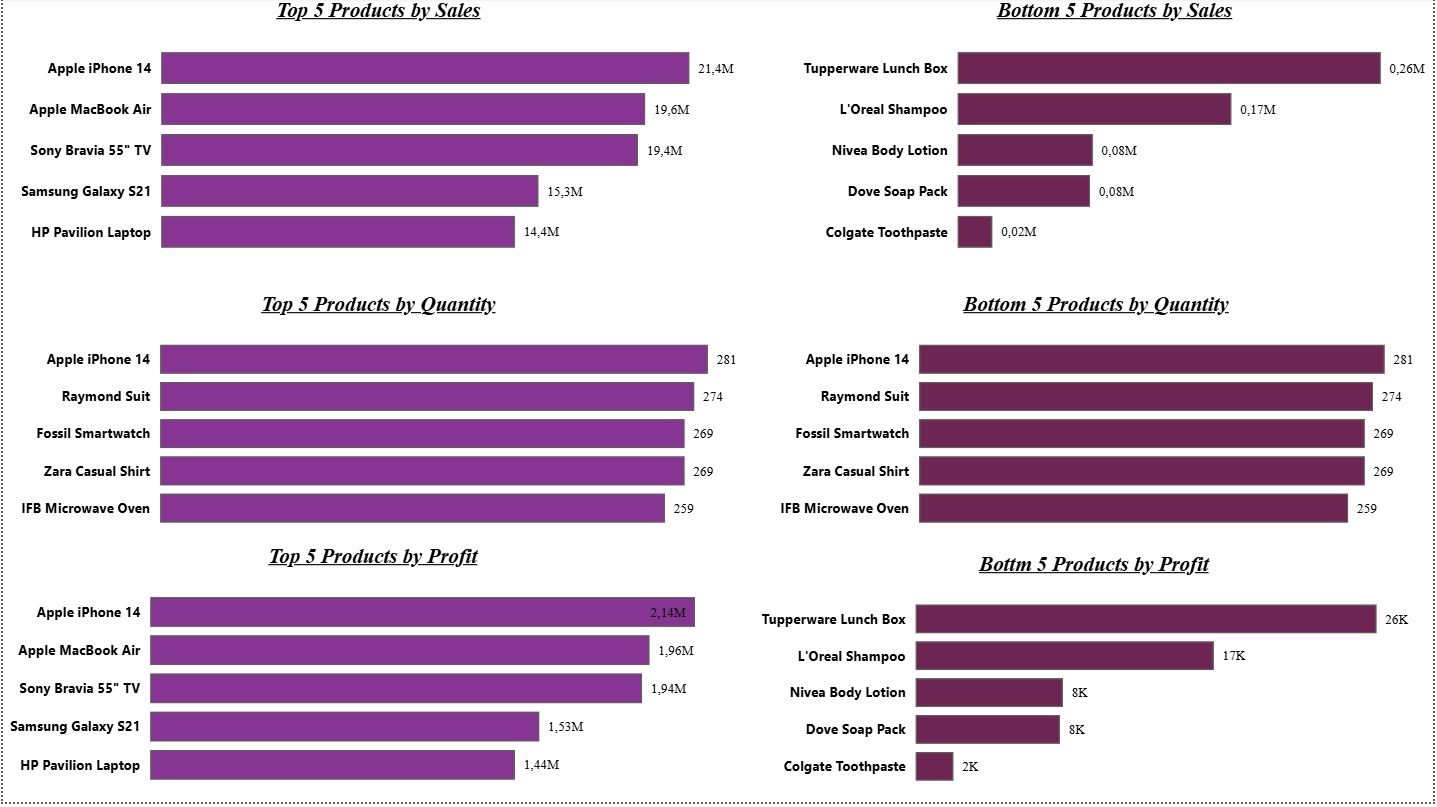

This screenshot's page, from the dashboard's own definition file:
{"tool":"powerbi","page":{"name":"Top/Bottom  Analysis","canvas":[1280,720],"ordinal":1},"visuals":[{"type":"barChart","title":"Top 5 Products by Sales","fields":{"Y":["Sum(Fact Table.Net Sales )"],"Category":["Dim Product.Product Name"]},"box":[9.7,0,652.6,244.1],"z":0},{"type":"barChart","title":"Bottom 5 Products by Sales","fields":{"Y":["Sum(Fact Table.Net Sales )"],"Category":["Dim Product.Product Name"]},"box":[711,0,569,244.1],"z":1000},{"type":"barChart","title":"Top 5 Products by Quantity","fields":{"Category":["Dim Product.Product Name"],"Y":["Sum(Fact Table.Units Sold)"]},"box":[9.7,263.6,652.6,225.7],"z":2000},{"type":"barChart","title":"Bottom 5 Products by Quantity","fields":{"Category":["Dim Product.Product Name"],"Y":["Sum(Fact Table.Units Sold)"]},"box":[689.6,263.6,578.7,225.7],"z":3000},{"type":"barChart","title":"Top 5 Products by Profit","fields":{"Category":["Dim Product.Product Name"],"Y":["Sum(Fact Table.Profit)"]},"box":[0,489.2,662.4,230.5],"z":4000},{"type":"barChart","title":"Bottm 5 Products by Profit","fields":{"Category":["Dim Product.Product Name"],"Y":["Sum(Fact Table.Profit)"]},"box":[673.1,496,606.9,223.7],"z":5000}]}

Visuals, with their boxes in screenshot pixels (x1, y1, x2, y2), scaled from the page's 1280x720 canvas onto the 1437x807 screenshot:
"Top 5 Products by Sales" barChart: x1=11, y1=0, x2=744, y2=274
"Bottom 5 Products by Sales" barChart: x1=798, y1=0, x2=1436, y2=274
"Top 5 Products by Quantity" barChart: x1=11, y1=295, x2=744, y2=548
"Bottom 5 Products by Quantity" barChart: x1=774, y1=295, x2=1424, y2=548
"Top 5 Products by Profit" barChart: x1=0, y1=548, x2=744, y2=806
"Bottm 5 Products by Profit" barChart: x1=756, y1=556, x2=1436, y2=806
